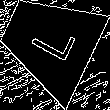L_NW: (21, 16, 76, 67)
